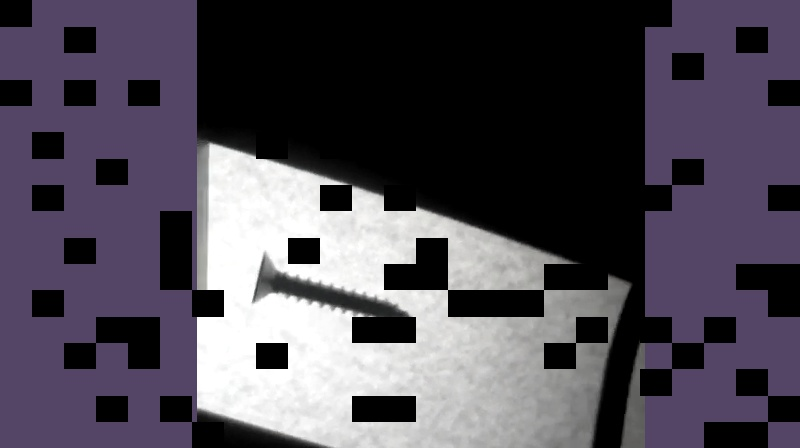S001: (245, 248, 413, 328)
